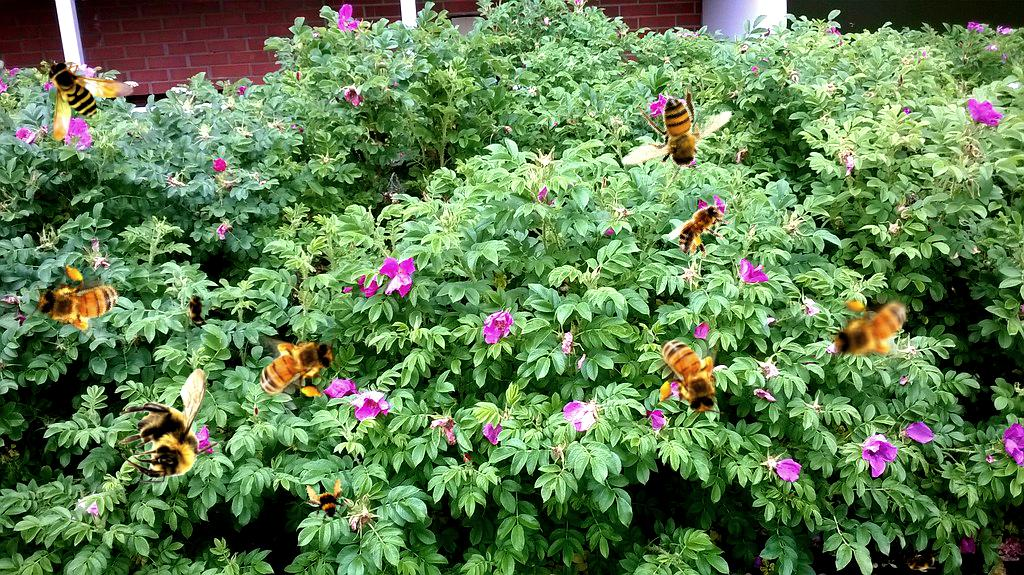Bee: (601, 62, 746, 208), (118, 368, 225, 483), (23, 253, 137, 354), (46, 59, 134, 141), (246, 330, 342, 403), (827, 296, 920, 364), (656, 327, 724, 420), (665, 187, 743, 268), (298, 474, 354, 530), (900, 551, 940, 573), (186, 289, 208, 329)
